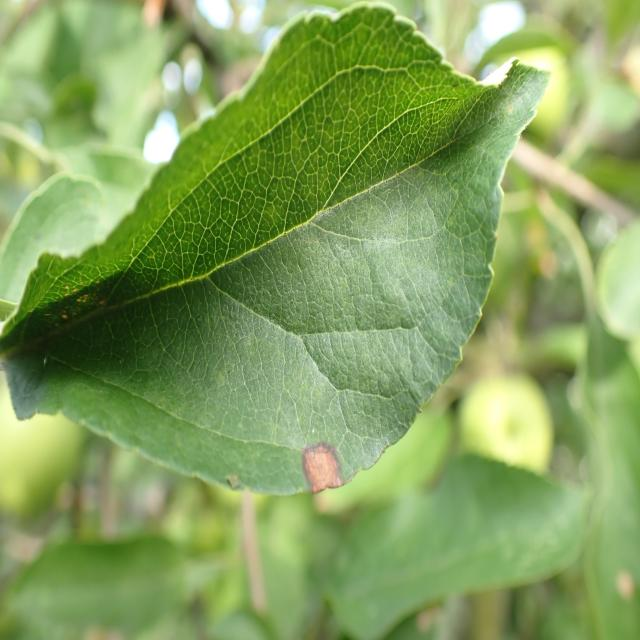Black Rot: (284, 400, 344, 516)
